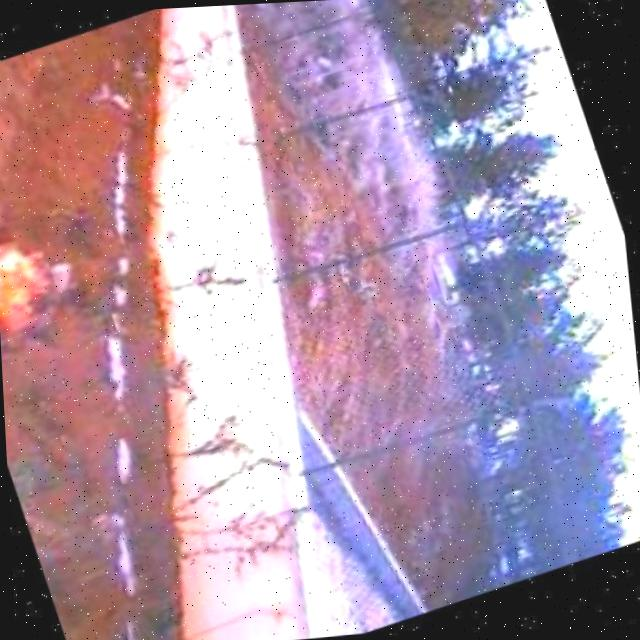fire: (0, 166, 98, 367)
